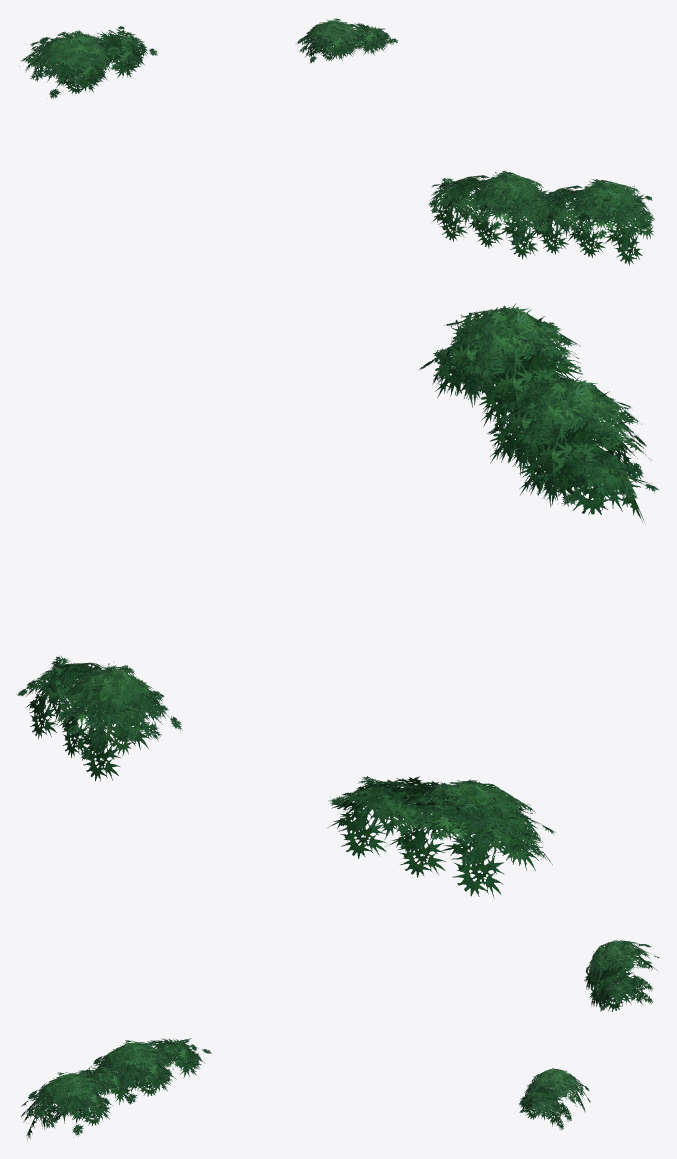
Rendered from Area_07_26.fbx.
3 views of the same model, one above another, from view 1: azimuth 30°, elevation 25°; view 2: azimuth 150°, elevation 25°; view 3: azimuth 270°, elevation 25° (orthographic). The views are drawn at different scales.
Visible parts, largest first — view 1: Area_07_26; view 2: Area_07_26; view 3: Area_07_26.
Boxes of the visible parts, bbox=[...] form: Area_07_26: bbox=[19, 18, 654, 265]; Area_07_26: bbox=[16, 303, 659, 898]; Area_07_26: bbox=[21, 939, 659, 1140].
Bounding box in the file's own units: 2669 × 585 × 4288.
